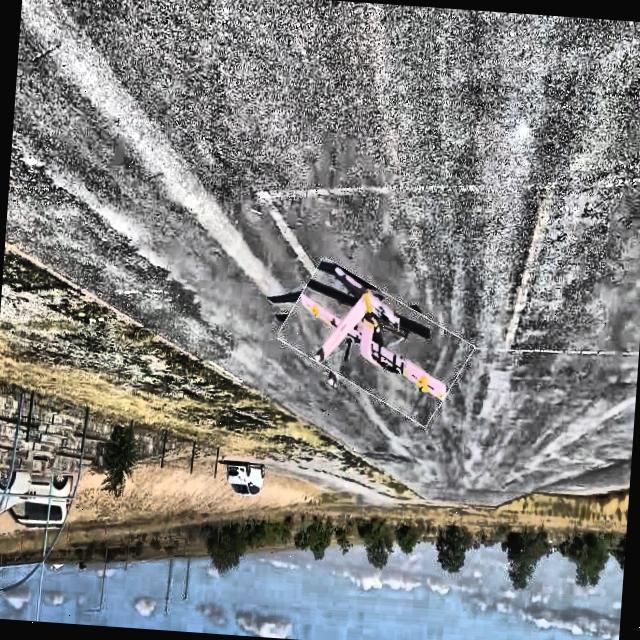iha: (267, 256, 484, 409)
